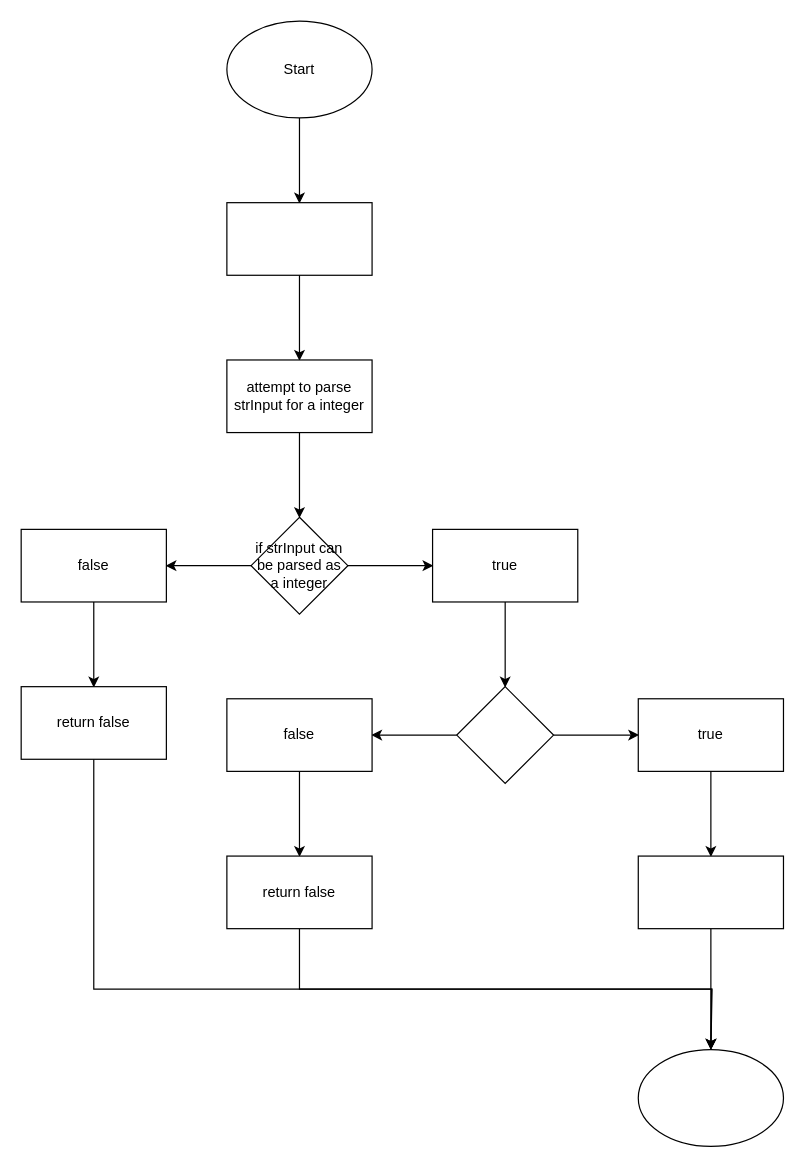
Some shapes in this 805 by 1168 pixel diagram are drawn without their labels. The box of each missing label's shape, as (x1, y1, x2, y2) in pixels:
End: (637, 1048, 783, 1146)
if strInput > 0: (456, 685, 554, 783)
return true: (637, 855, 783, 929)
string strInput (this is the parameter of the method): (226, 201, 372, 275)
